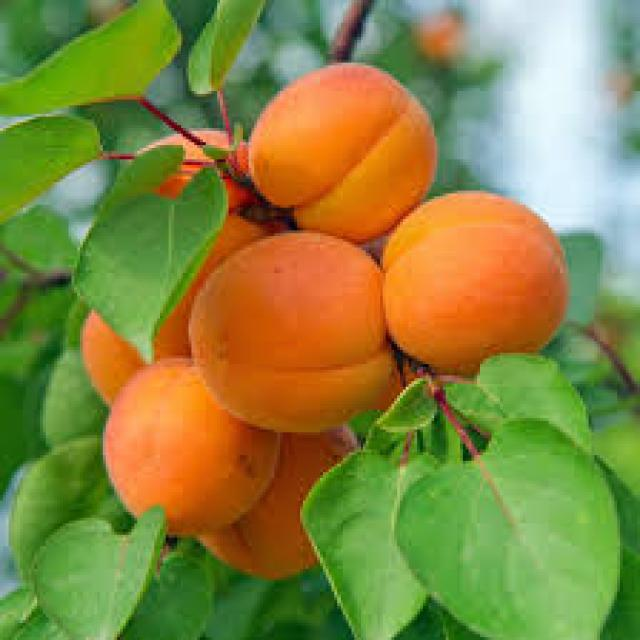kayisi: (256, 64, 433, 231)
yaprak: (402, 422, 619, 632)
